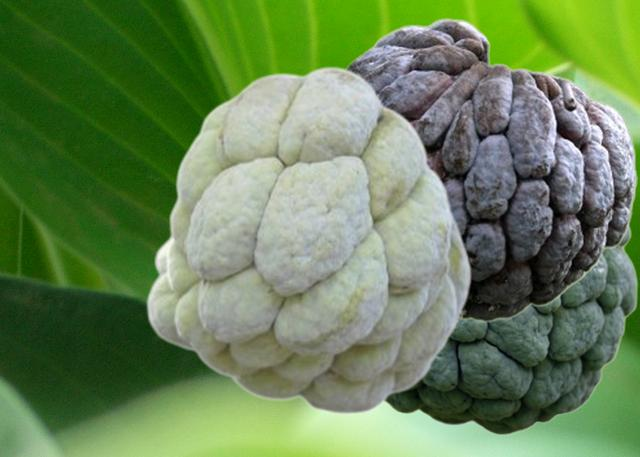atis: (145, 65, 471, 414), (344, 17, 636, 321), (385, 221, 637, 435)
